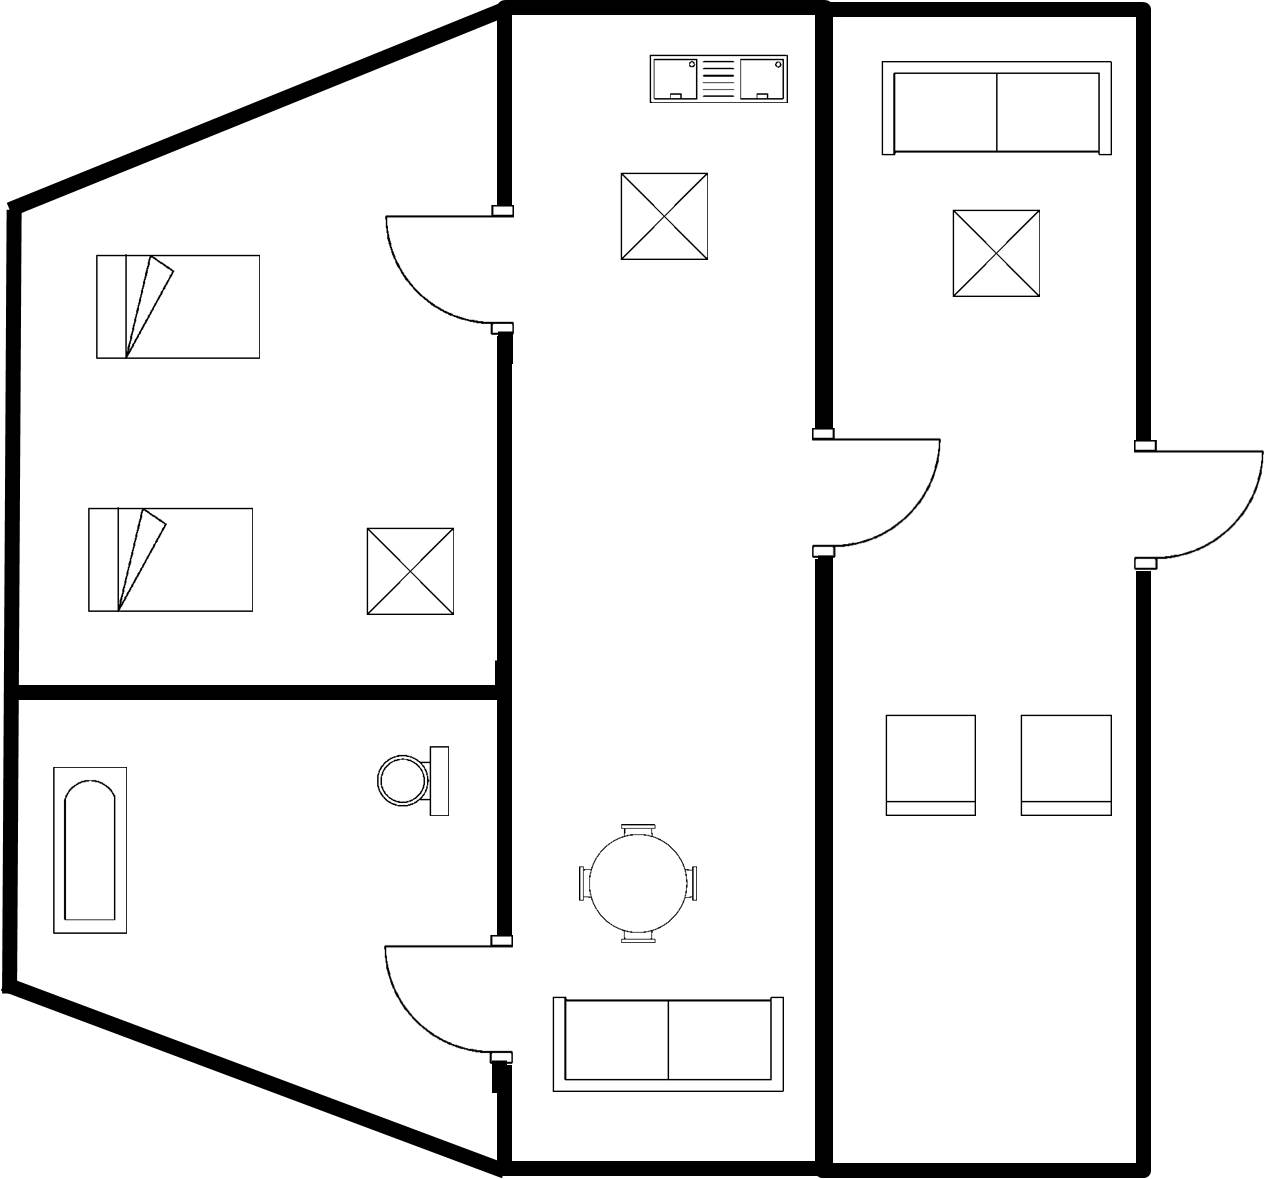bed: (80, 501, 259, 620), (87, 247, 268, 366)
coffee_table: (941, 201, 1049, 307), (358, 517, 459, 624), (614, 167, 717, 268)
large_sink: (373, 742, 458, 825)
large_sofa: (543, 990, 796, 1102), (871, 53, 1119, 164)
round_table: (571, 816, 705, 948)
small_sofa: (873, 706, 982, 824), (1012, 706, 1119, 825)
tub: (43, 759, 137, 944)
twin_sink: (640, 44, 796, 117)
